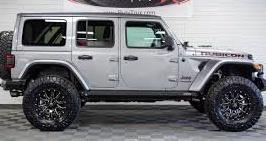Cars: (0, 12, 263, 131)
SUV: (0, 12, 264, 131)
